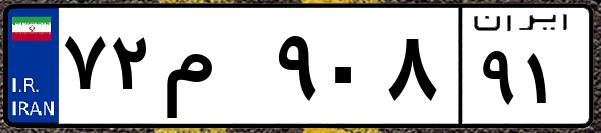0: (330, 28, 385, 110)
1: (525, 38, 570, 115)
2: (110, 28, 158, 98)
7: (57, 26, 110, 100)
8: (385, 28, 445, 110)
9: (270, 28, 330, 110), (475, 38, 525, 113)
م: (158, 20, 270, 120)
